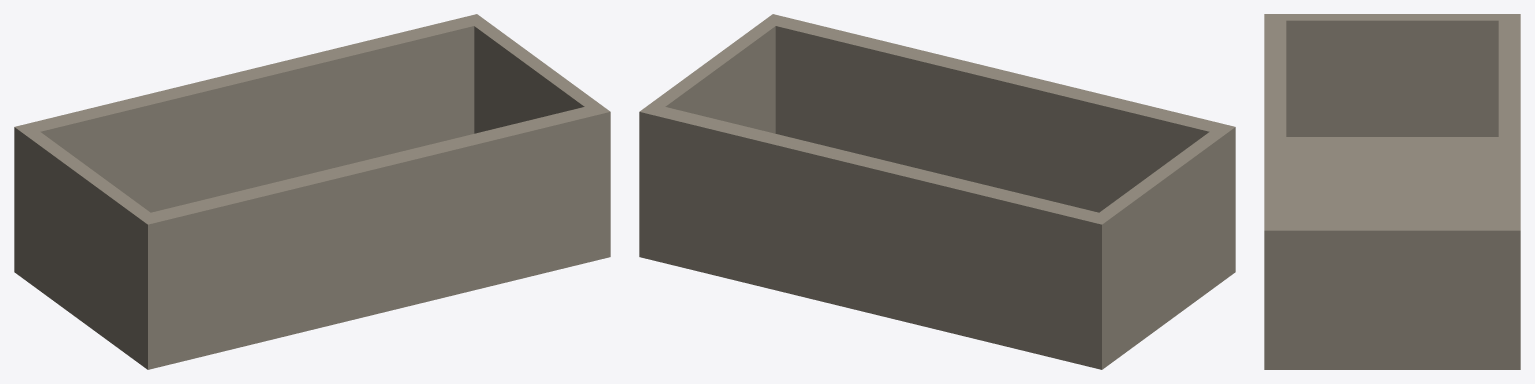
Rendered from rec_4x2.fbx.
3 renders of one model, left to right at view 1: azimuth 30°, elevation 25°; view 2: azimuth 150°, elevation 25°; view 3: azimuth 270°, elevation 25°, orthographic. The views are drawn at different scales.
Parts seen in each view (by area): view 1: geo_rec_03; view 2: geo_rec_03; view 3: geo_rec_03.
Boxes of the visible parts, x1,y1,x2,y2 form: geo_rec_03: (14, 14, 610, 369); geo_rec_03: (639, 14, 1235, 369); geo_rec_03: (1264, 14, 1520, 369).
Size of the model in its own units: 400 by 120 by 200.
